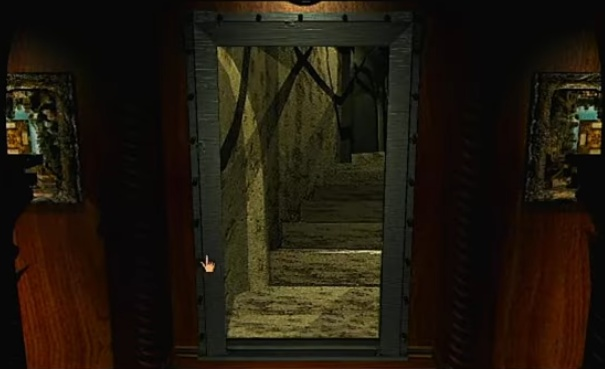Pointer: (198, 251, 218, 274)
